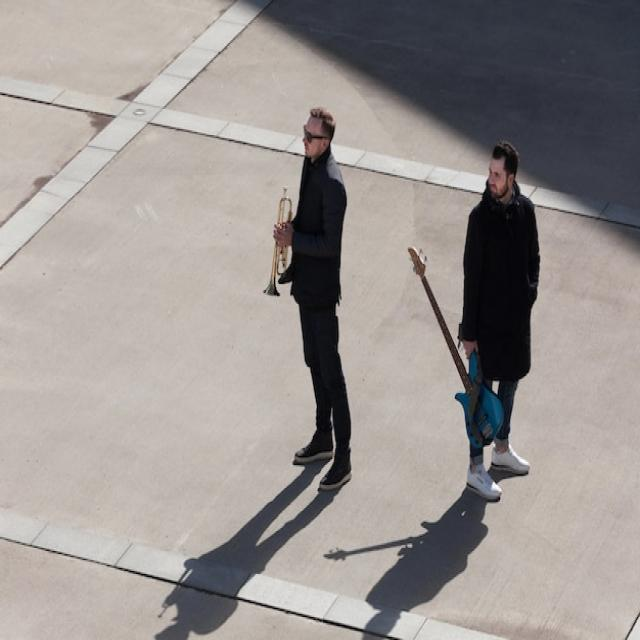adult: (280, 104, 354, 508), (466, 140, 544, 505)
